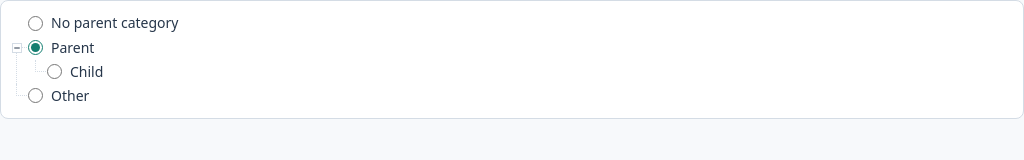
Scenario: defaults the first no-option radio to numeric zero and preserves it in changes and form submission
The width and height of the screenshot is (1024, 160).
Click the radio button labelled "No parent category" at {"x": 36, "y": 23}, box x1=28 y1=16 x2=43 y2=30
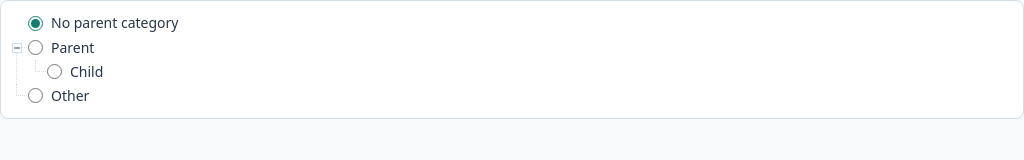
expect the radio button labelled "No parent category" is checked: met, box x1=28 y1=16 x2=43 y2=30
expect the radio button labelled "Parent" is not checked: met, box x1=28 y1=40 x2=43 y2=55
